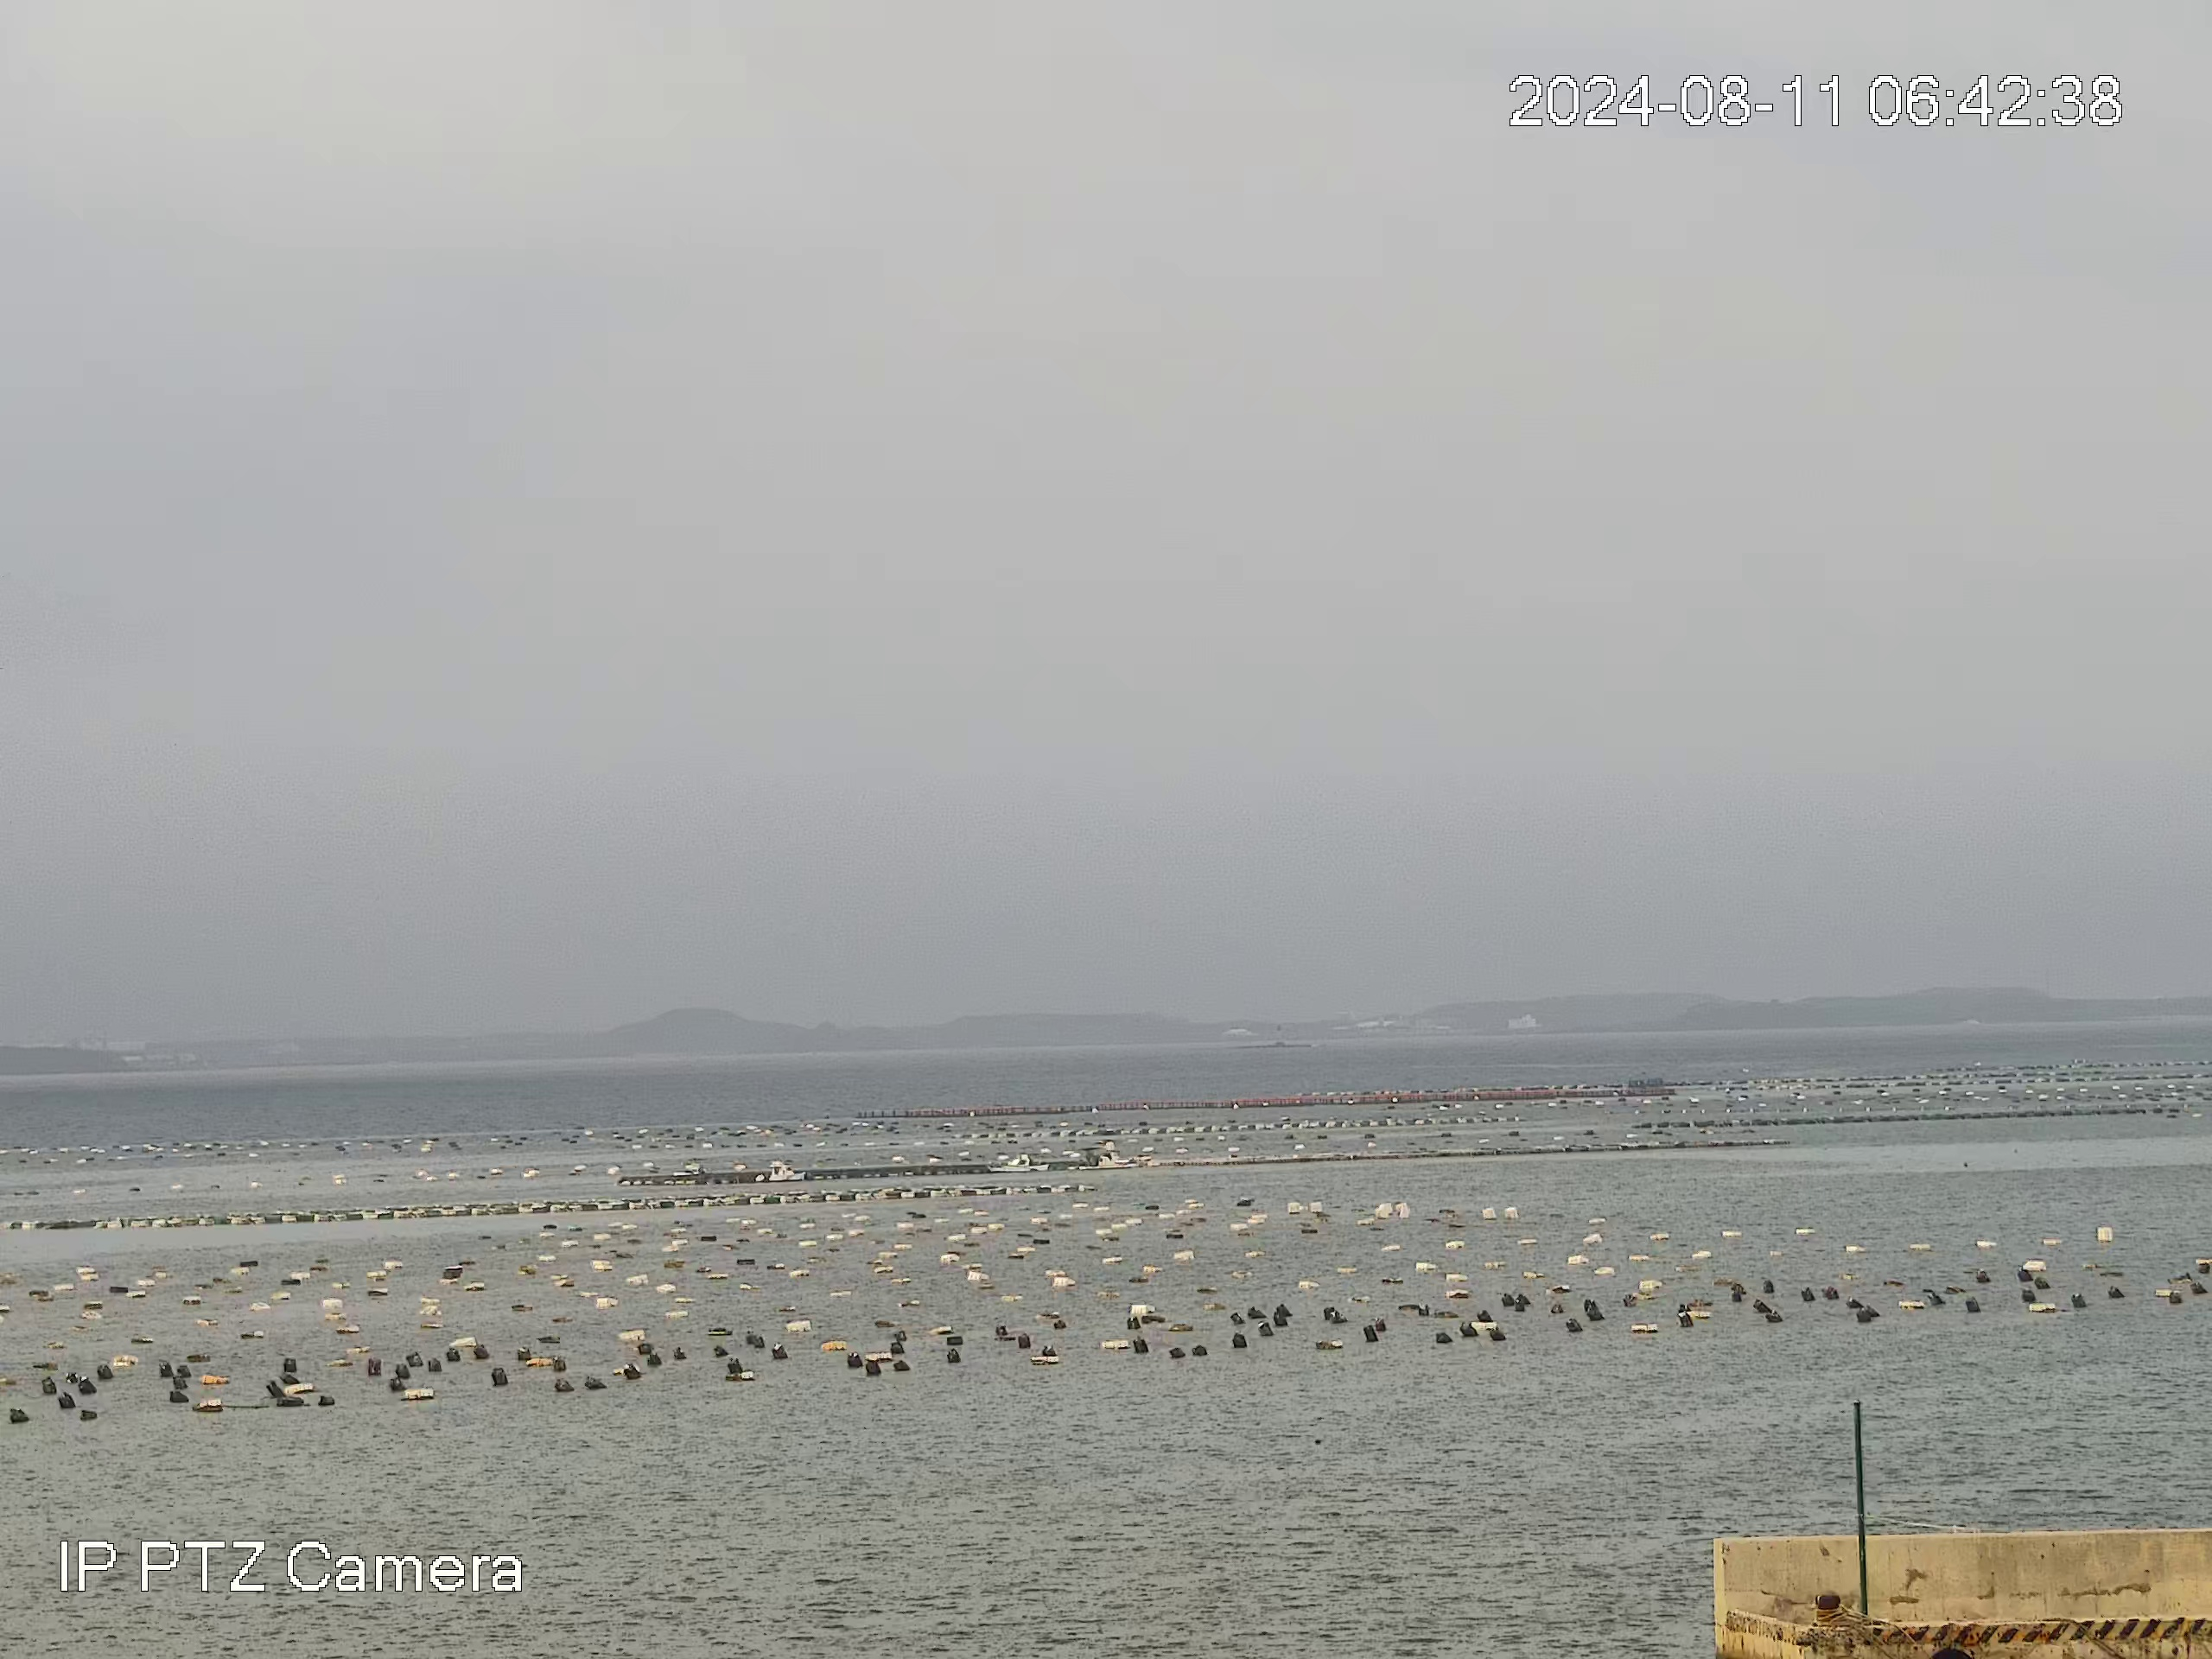boat: (986, 1152, 1050, 1175), (1066, 1147, 1122, 1171), (752, 1159, 806, 1183)
